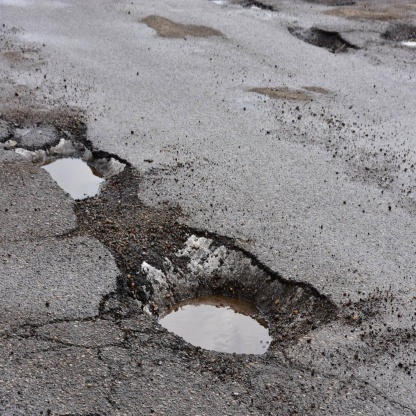pothole: (80, 226, 355, 372), (26, 115, 139, 219)
